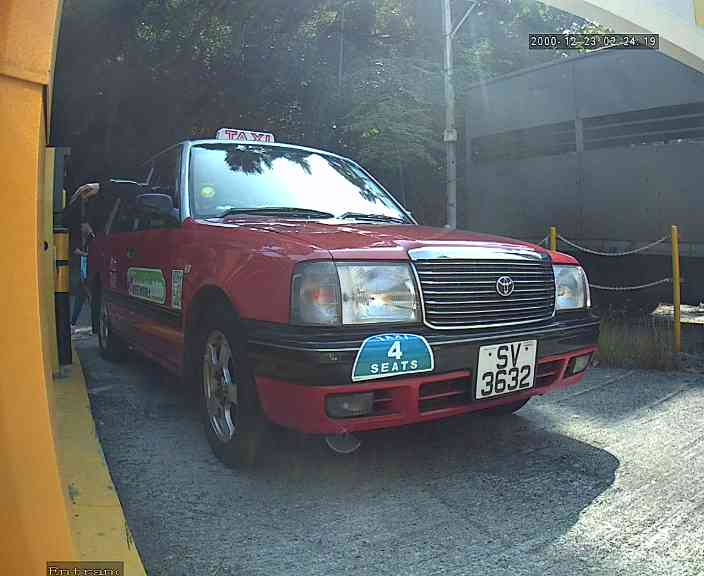taxi: (60, 112, 599, 478)
taxi_mark: (347, 325, 441, 394)
